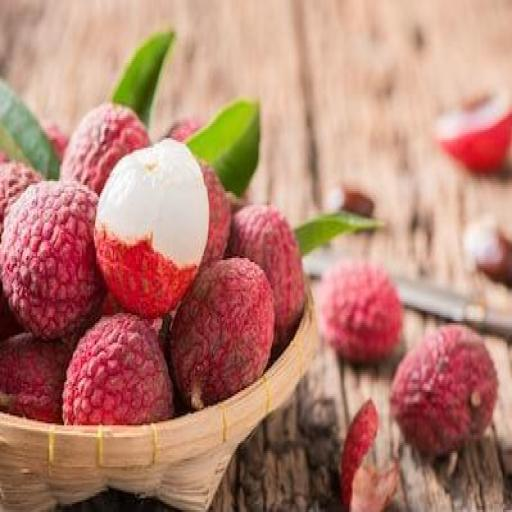lychee: (95, 138, 209, 317), (0, 182, 103, 338), (171, 258, 274, 409), (392, 325, 497, 456), (63, 314, 173, 425), (229, 205, 305, 344), (320, 262, 402, 362), (61, 103, 150, 194), (341, 400, 399, 511), (0, 333, 70, 423), (436, 93, 511, 173), (0, 162, 41, 236), (202, 164, 232, 265), (202, 166, 232, 265), (0, 286, 23, 340), (43, 123, 69, 161), (169, 119, 204, 141), (0, 150, 8, 163)
